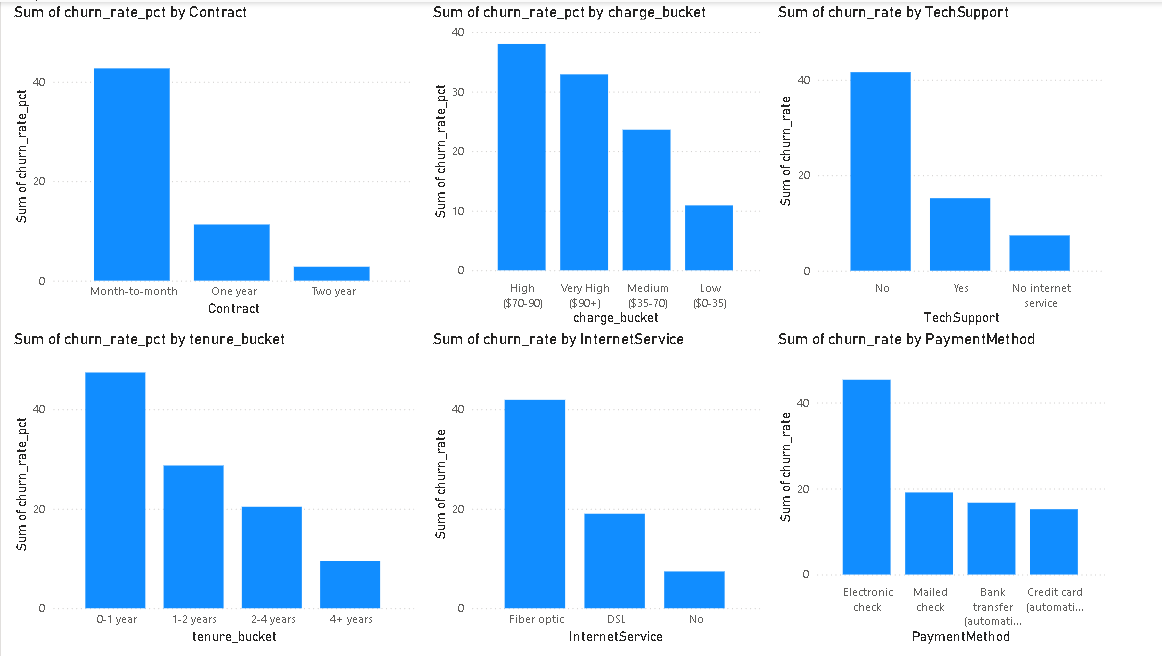

Layout of this report page (visuals, bound fields, positions):
{"tool":"powerbi","page":{"name":"Why Customers Churn ","canvas":[1280,720],"ordinal":1},"visuals":[{"type":"columnChart","fields":{"Category":["segment_contract.Contract"],"Y":["Sum(segment_contract.churn_rate_pct)"]},"box":[9.6,0,448.7,349.9],"z":0},{"type":"columnChart","fields":{"Category":["segment_tenure.tenure_bucket"],"Y":["Sum(segment_tenure.churn_rate_pct)"]},"box":[10,360,449,350],"z":1},{"type":"columnChart","fields":{"Y":["Sum(segment_charges.churn_rate_pct)"],"Category":["segment_charges.charge_bucket"]},"box":[469.3,0,369.1,359.5],"z":2},{"type":"columnChart","fields":{"Y":["Sum(segment_techsupport.churn_rate)"],"Category":["segment_techsupport.TechSupport"]},"box":[848,0,369,360],"z":3},{"type":"columnChart","fields":{"Y":["Sum(segment_internetservice.churn_rate)"],"Category":["segment_internetservice.InternetService"]},"box":[469,360,369,350],"z":4},{"type":"columnChart","fields":{"Y":["Sum(segment_paymentmethod.churn_rate)"],"Category":["segment_paymentmethod.PaymentMethod"]},"box":[848,360,369,350],"z":5}]}

Visuals, with their boxes in screenshot pixels (x1, y1, x2, y2), scaled from the page's 1280x720 canvas onto the 1162x656 screenshot:
columnChart - segment_contract.Contract x Sum(segment_contract.churn_rate_pct): <bbox>9, 0, 416, 319</bbox>
columnChart - segment_tenure.tenure_bucket x Sum(segment_tenure.churn_rate_pct): <bbox>9, 328, 417, 647</bbox>
columnChart - Sum(segment_charges.churn_rate_pct) x segment_charges.charge_bucket: <bbox>426, 0, 761, 328</bbox>
columnChart - Sum(segment_techsupport.churn_rate) x segment_techsupport.TechSupport: <bbox>770, 0, 1105, 328</bbox>
columnChart - Sum(segment_internetservice.churn_rate) x segment_internetservice.InternetService: <bbox>426, 328, 761, 647</bbox>
columnChart - Sum(segment_paymentmethod.churn_rate) x segment_paymentmethod.PaymentMethod: <bbox>770, 328, 1105, 647</bbox>
